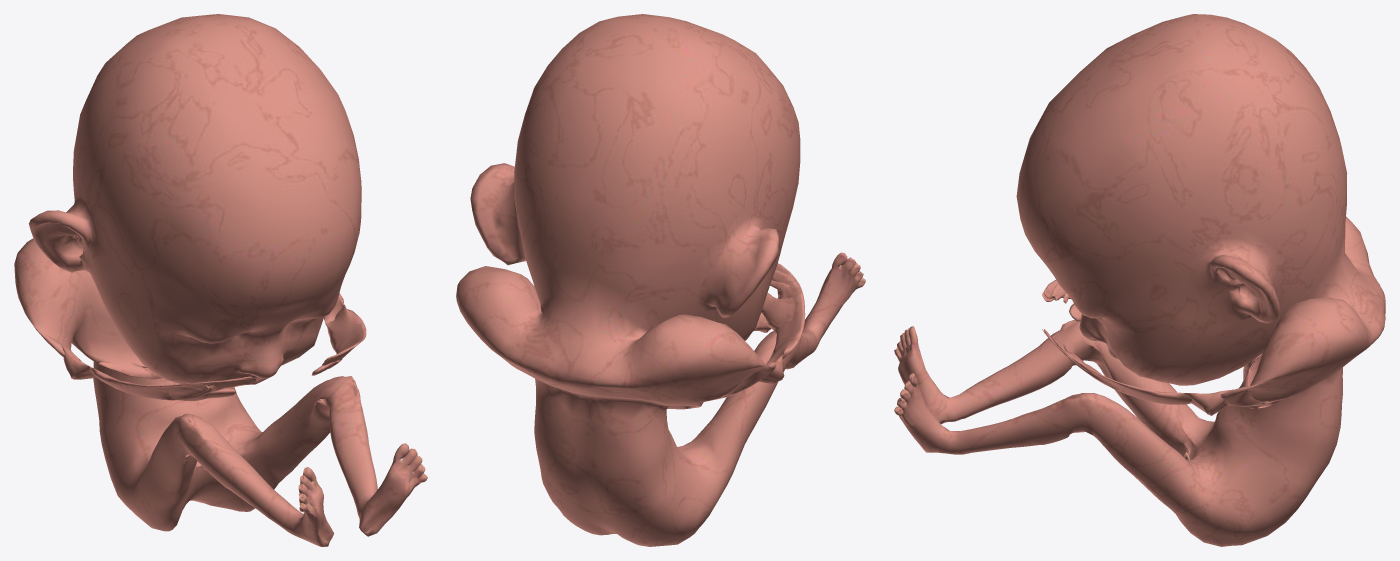
Rendered from pb-w09.afbe4d7a.glb.
The picture shows the model from 3 angles, left to right: view 1: azimuth 30°, elevation 25°; view 2: azimuth 150°, elevation 25°; view 3: azimuth 270°, elevation 25°; orthographic projection.
Visible parts, largest first — view 1: Baby; view 2: Baby; view 3: Baby.
Part boxes in pixels (x1,y1,x2,y2): Baby: (14, 14, 427, 546); Baby: (456, 14, 865, 546); Baby: (894, 14, 1385, 546).
Bounding box in the file's own units: 0.0157 × 0.025 × 0.0223.
Materials: 1 (1 with a texture image).
